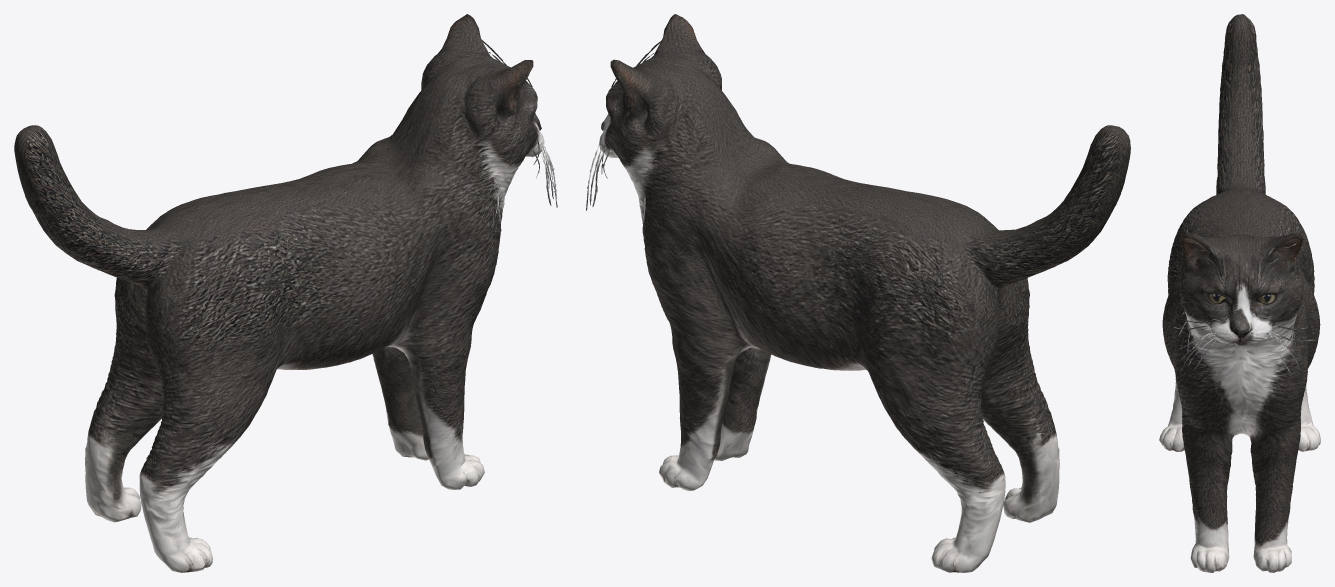
The model's file is SOCKAMILL.glb.
3 views of the same model, side by side, from view 1: azimuth 30°, elevation 25°; view 2: azimuth 150°, elevation 25°; view 3: azimuth 270°, elevation 25° (orthographic). The views are drawn at different scales.
Visible parts, largest first — view 1: tripo_node_f4d4779a-f7d1-4dd1-8044-fc1f3d6e6da8; view 2: tripo_node_f4d4779a-f7d1-4dd1-8044-fc1f3d6e6da8; view 3: tripo_node_f4d4779a-f7d1-4dd1-8044-fc1f3d6e6da8.
Part boxes in pixels (left/top/right/bottom): tripo_node_f4d4779a-f7d1-4dd1-8044-fc1f3d6e6da8: left=14, top=14, right=557, bottom=572; tripo_node_f4d4779a-f7d1-4dd1-8044-fc1f3d6e6da8: left=586, top=14, right=1130, bottom=572; tripo_node_f4d4779a-f7d1-4dd1-8044-fc1f3d6e6da8: left=1159, top=14, right=1320, bottom=572.
Size of the model in its own units: 1.23 by 0.9998 by 0.386.
Materials: 1 (1 with a texture image).
